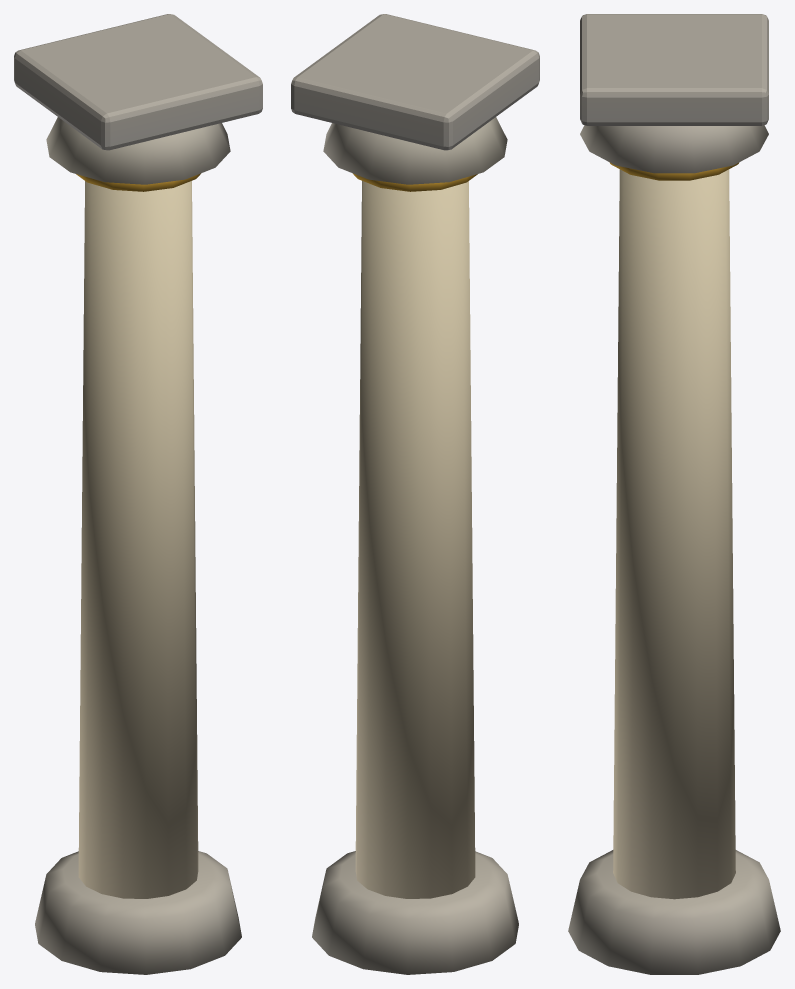
Rendered from pillar.glb.
The picture shows the model from 3 angles, left to right: view 1: azimuth 30°, elevation 25°; view 2: azimuth 150°, elevation 25°; view 3: azimuth 270°, elevation 25°; orthographic projection.
Parts seen in each view (by area): view 1: pillar; view 2: pillar; view 3: pillar.
Part boxes in pixels (box(x1,y1,x2,y2)): pillar: box(14, 14, 262, 974); pillar: box(291, 14, 539, 974); pillar: box(568, 14, 780, 974).
Size of the model in its own units: 1.75 by 8.28 by 1.8.
